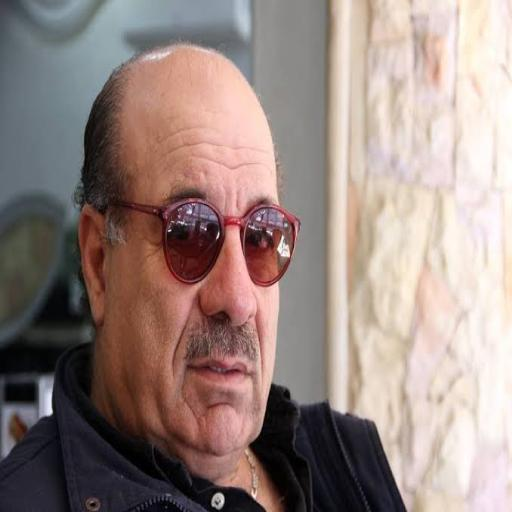beji_matrix: (79, 202, 279, 435), (106, 46, 278, 216)
